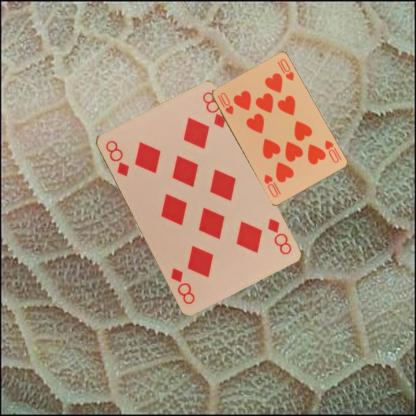10h: (214, 90, 235, 116), (322, 138, 340, 164)
8d: (264, 215, 293, 256), (102, 137, 130, 178)
